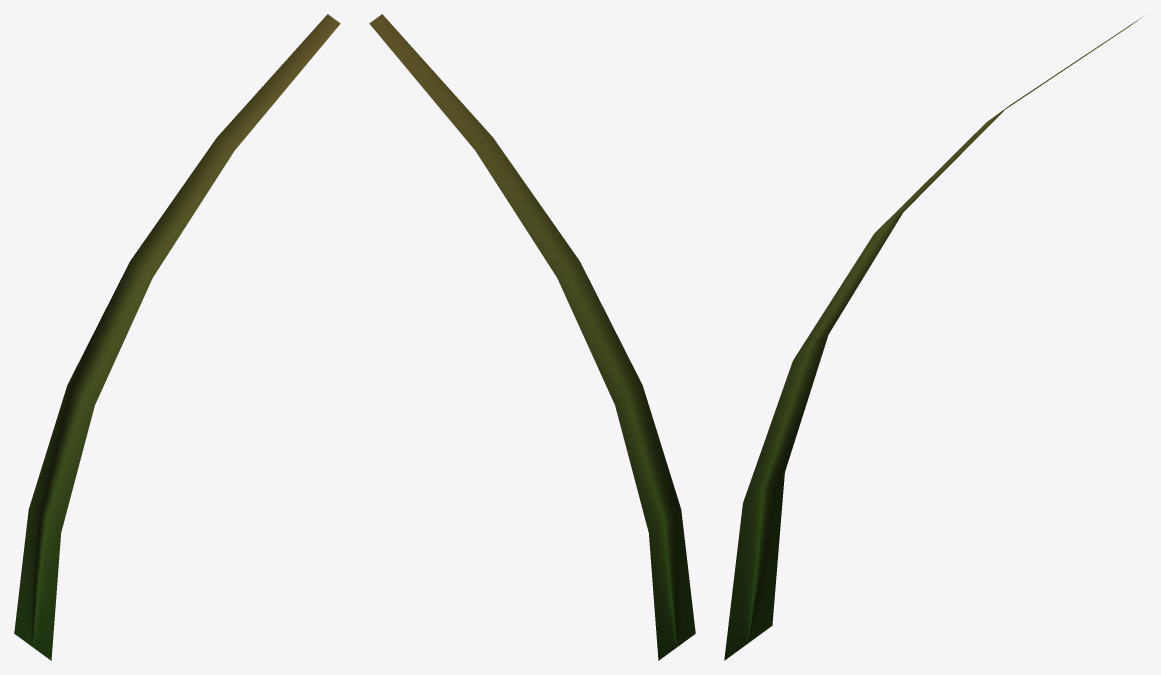
Rendered from Blade_Wild_Curved.glb.
3 renders of one model, left to right at view 1: azimuth 30°, elevation 25°; view 2: azimuth 150°, elevation 25°; view 3: azimuth 330°, elevation 25°, orthographic. The views are drawn at different scales.
Parts seen in each view (by area): view 1: Blade_Wild_Curved; view 2: Blade_Wild_Curved; view 3: Blade_Wild_Curved.
Part boxes in pixels (x1,y1,x2,y2): Blade_Wild_Curved: (14, 14, 340, 660); Blade_Wild_Curved: (369, 14, 695, 660); Blade_Wild_Curved: (724, 17, 1141, 660).
Size of the model in its own units: 0.14 by 0.2464 by 0.03.
